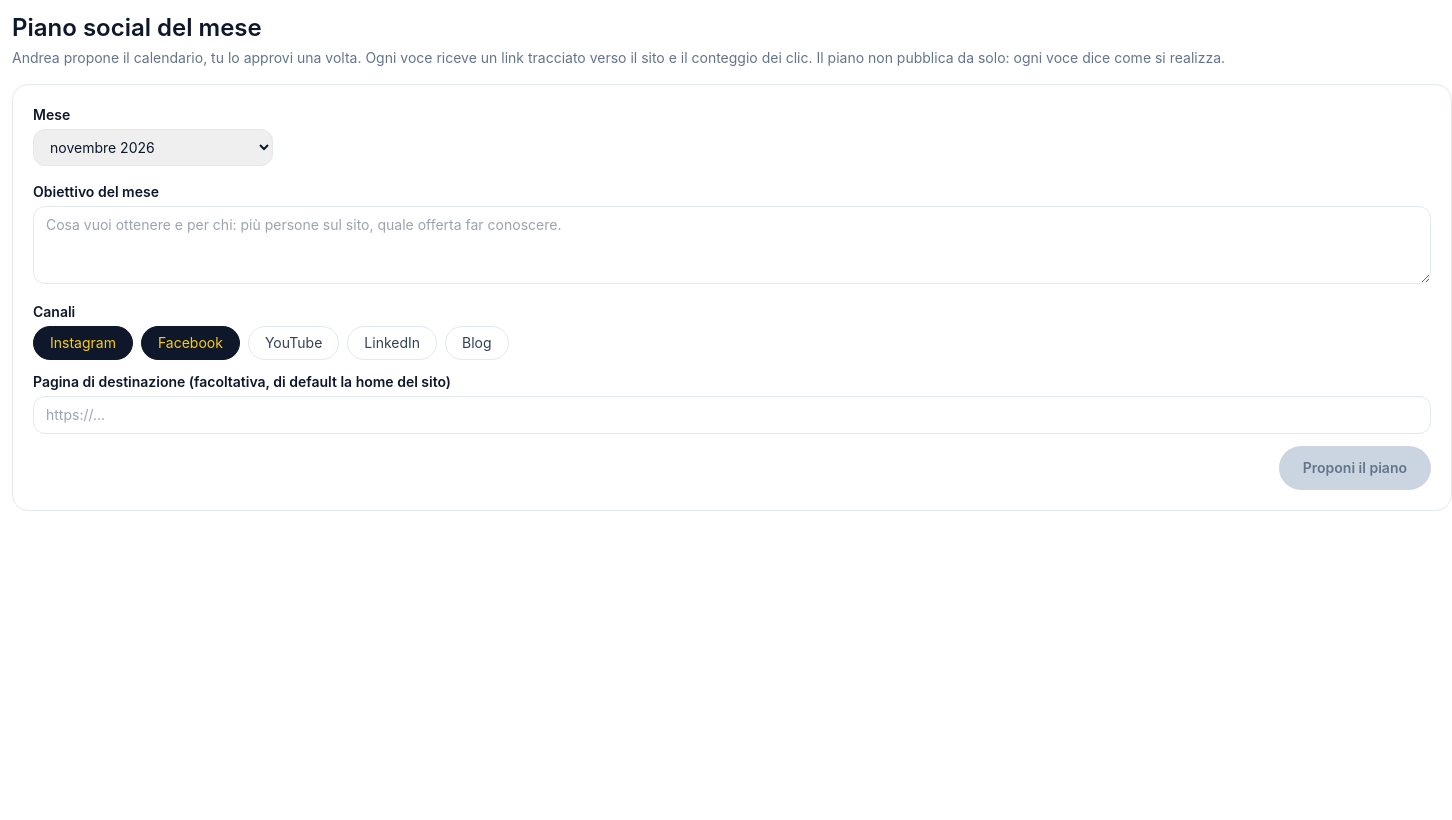
Test case: propone, permette di togliere e modificare, e approva solo con il clic
The width and height of the screenshot is (1452, 820).
Later steps or results of the test are not shown.
Replace the text in the text box labelled "Obiettivo del mese" with "Portare persone sul sito" at (732, 245), box [33,206,1431,284]
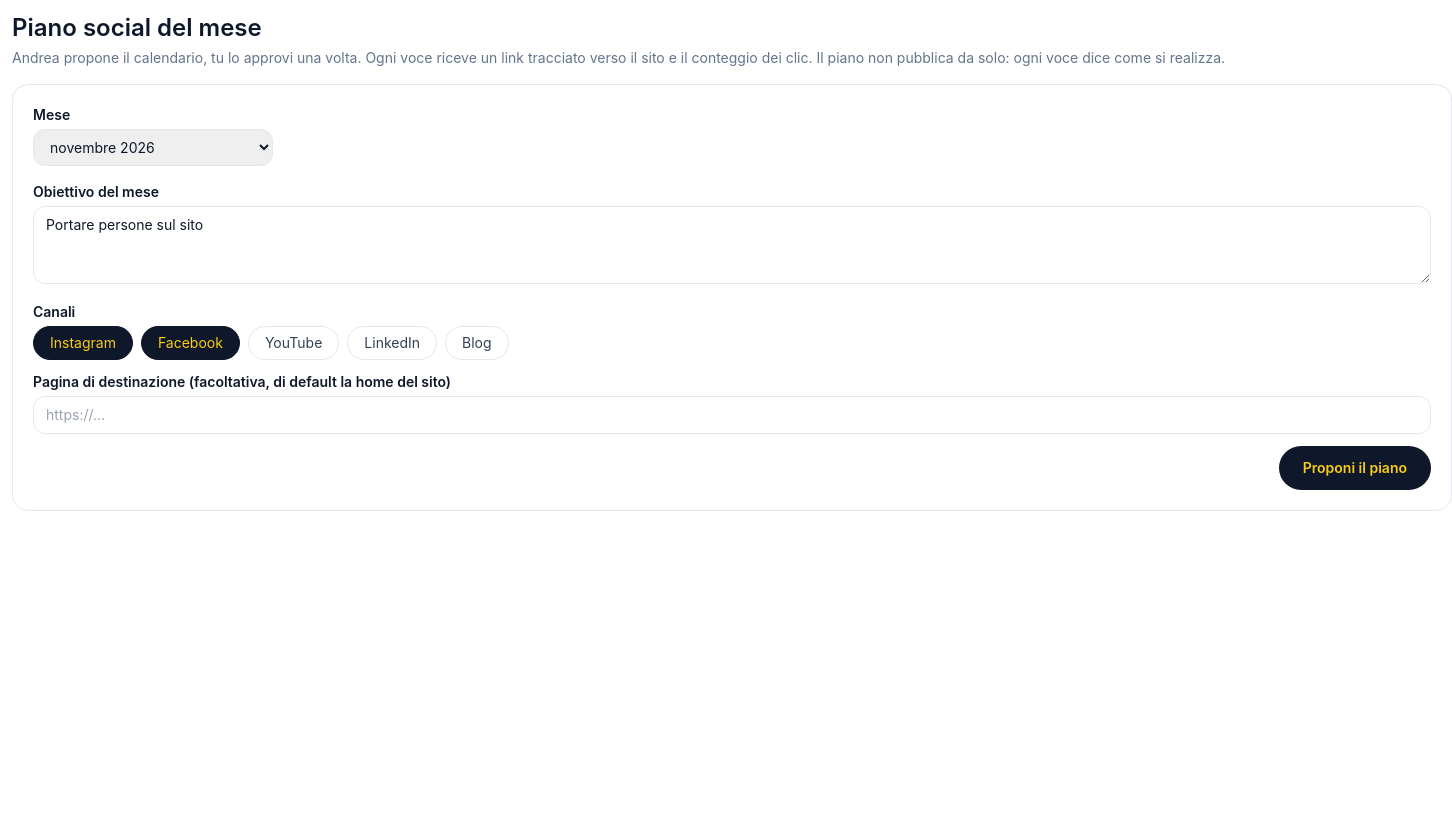
Click the button "Proponi il piano".
click(1355, 468)  # box [1279,446,1431,490]
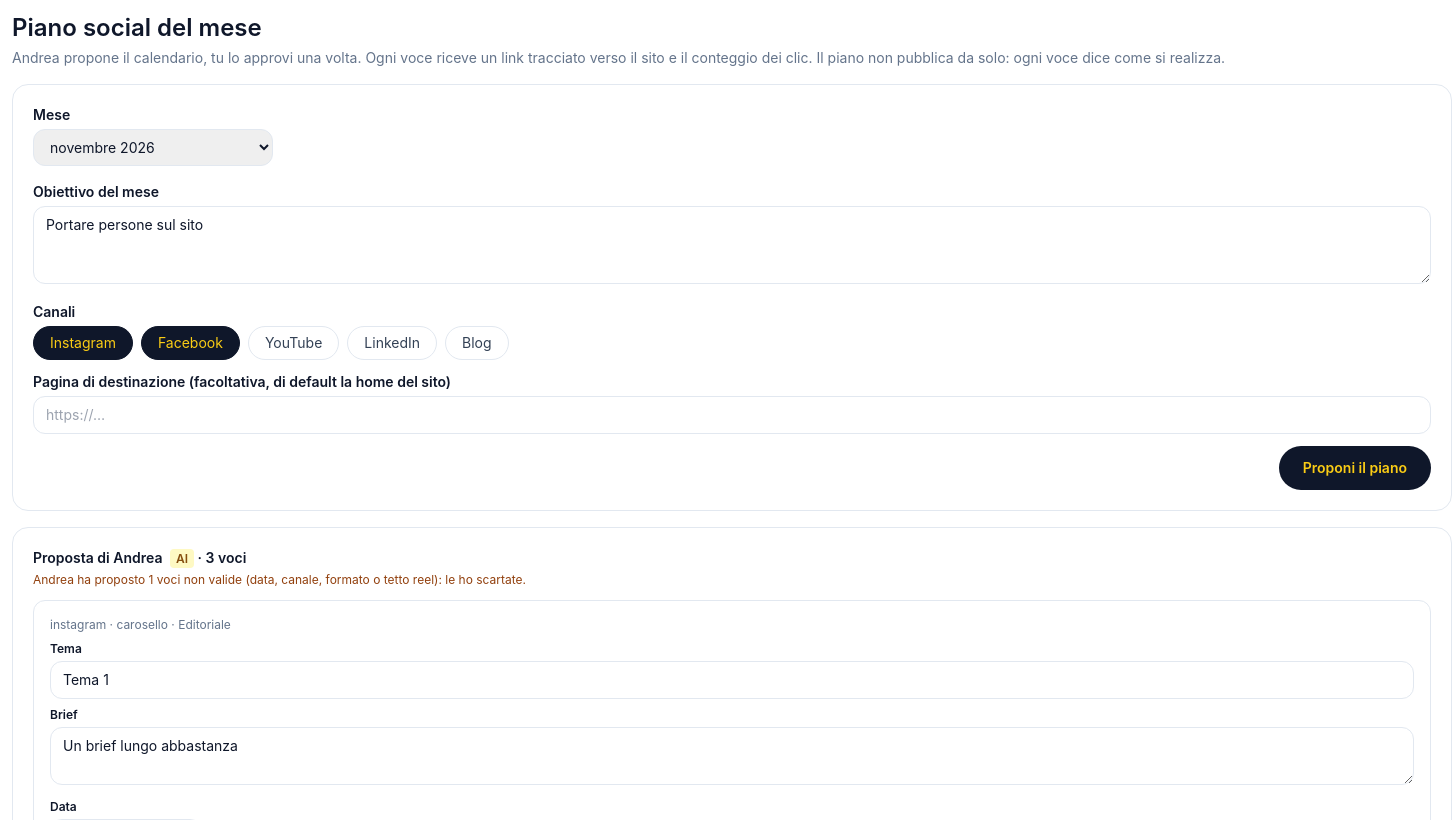
Check: the text "Proposta di Andrea AI · 3 voci" is shown, box [33,549,246,568]
Check: the text "1 voci non valide" is shown, box [33,572,526,587]
